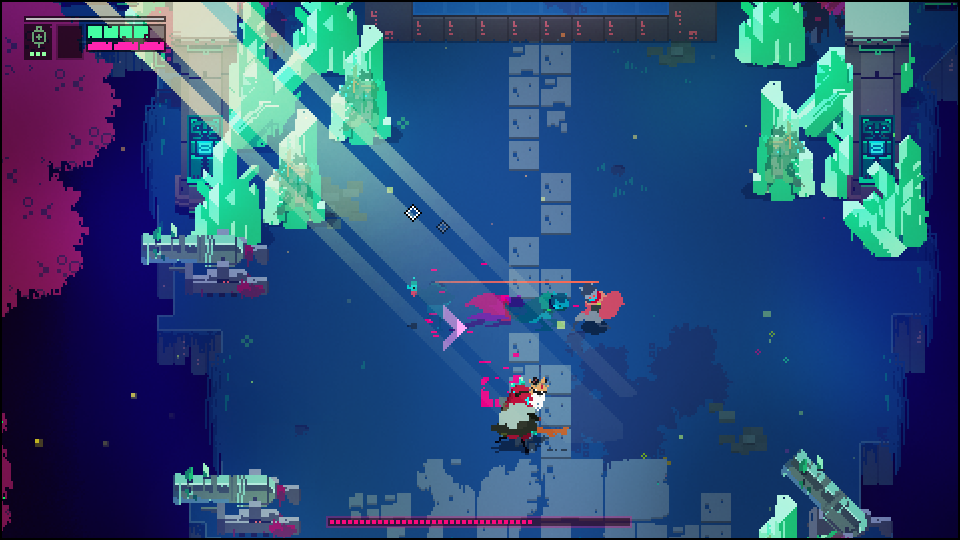hanged_man: (490, 368, 573, 450)
player: (568, 283, 627, 334)
